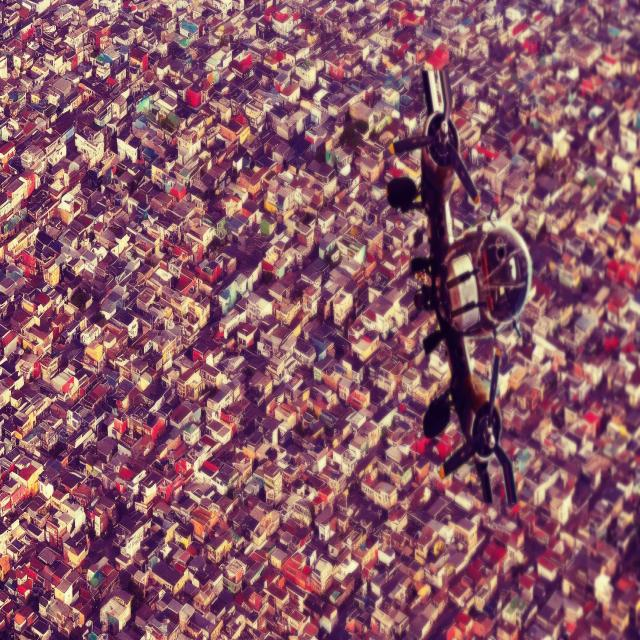airplane: (384, 64, 534, 508)
